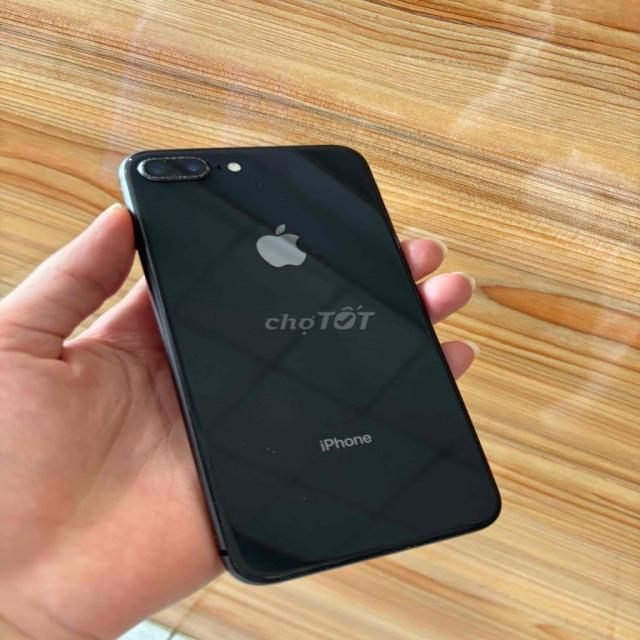scratch: (133, 149, 220, 183), (234, 430, 290, 468), (114, 149, 148, 182), (301, 247, 335, 267), (280, 350, 310, 372), (292, 483, 316, 510), (203, 526, 232, 548), (248, 171, 276, 193), (275, 192, 296, 202)
